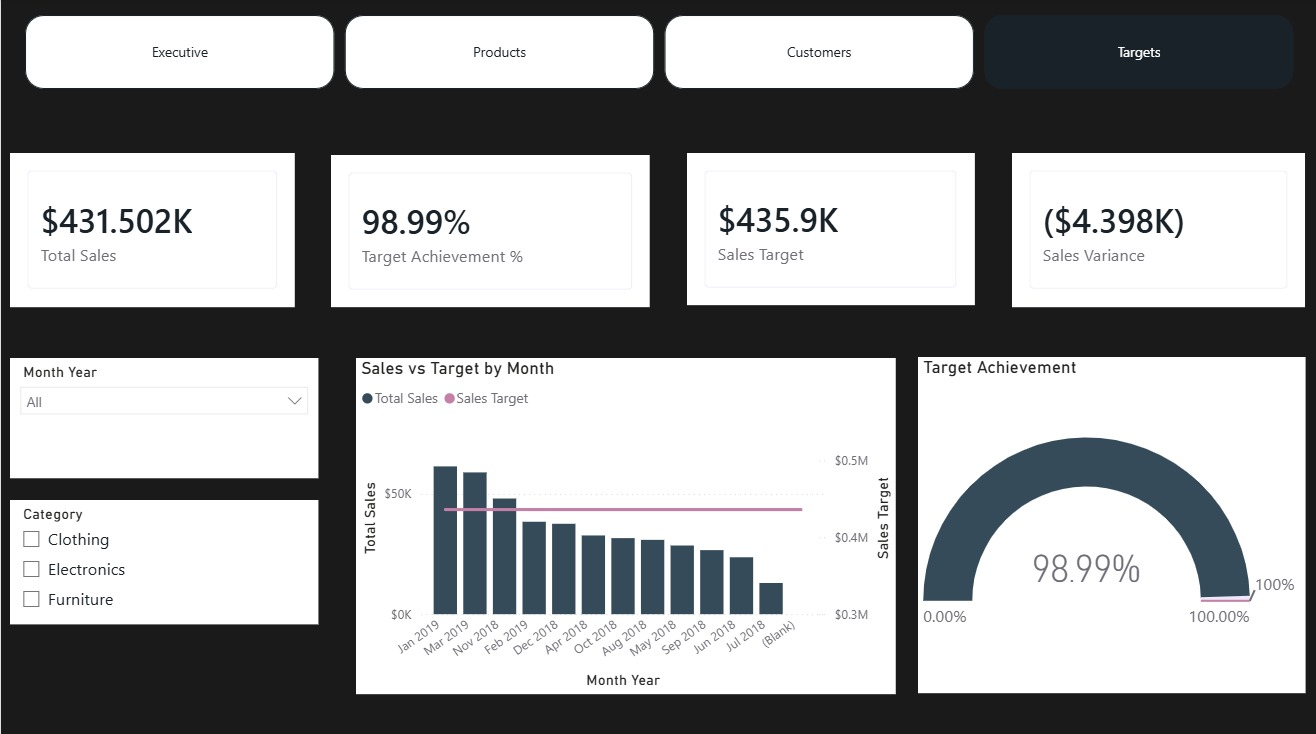

The dashboard page shown, as its layout file describes it:
{"tool":"powerbi","page":{"name":"Targets","canvas":[1280,720],"ordinal":3},"visuals":[{"type":"cardVisual","fields":{"Data":["Calendar.Total Sales"]},"box":[9,150.7,277.2,149.8],"z":0},{"type":"cardVisual","fields":{"Data":["Calendar.Sales Target"]},"box":[667.4,150.7,279.9,148],"z":1000},{"type":"cardVisual","fields":{"Data":["Calendar.Sales Variance"]},"box":[983.1,150.7,285.2,149.8],"z":2000},{"type":"cardVisual","fields":{"Data":["Calendar.Target Achievement %"]},"box":[321.1,152.5,310.4,148],"z":3000},{"type":"lineStackedColumnComboChart","title":"Sales vs Target by Month","fields":{"Category":["Calendar.Month Year"],"Y":["Calendar.Total Sales"],"Y2":["Calendar.Sales Target"]},"box":[345.3,349.8,524.7,326.5],"z":4000},{"type":"gauge","title":"Target Achievement","fields":{"Y":["Calendar.Target Achievement %"],"TargetValue":["Calendar.Target Achievement Goal"]},"box":[891.6,348.9,376.7,327.4],"z":5000},{"type":"pageNavigator","box":[23.3,16.1,1234.3,72.7],"z":6000},{"type":"slicer","fields":{"Values":["Calendar.Month Year"]},"box":[9,392.9,299.6,73.6],"z":7000},{"type":"slicer","fields":{"Values":["Category.Category"]},"box":[9,488,299.6,127.4],"z":8000}]}

Visuals, with their boxes in screenshot pixels (x1, y1, x2, y2), scaled from the page's 1280x720 canvas onto the 1316x734 screenshot:
cardVisual - Calendar.Total Sales: bbox(9, 154, 294, 306)
cardVisual - Calendar.Sales Target: bbox(686, 154, 974, 305)
cardVisual - Calendar.Sales Variance: bbox(1011, 154, 1304, 306)
cardVisual - Calendar.Target Achievement %: bbox(330, 155, 649, 306)
"Sales vs Target by Month" lineStackedColumnComboChart: bbox(355, 357, 894, 689)
"Target Achievement" gauge: bbox(917, 356, 1304, 689)
pageNavigator: bbox(24, 16, 1293, 91)
slicer - Calendar.Month Year: bbox(9, 401, 317, 476)
slicer - Category.Category: bbox(9, 497, 317, 627)
